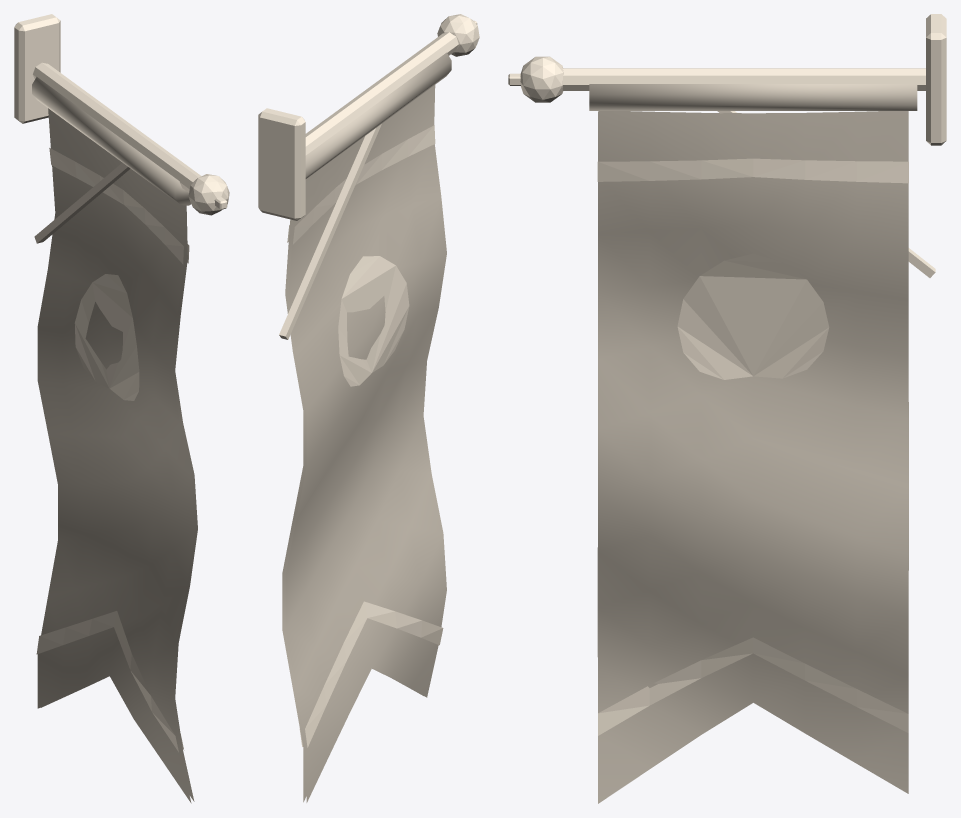
File: SM_VK_Banner_Wall.fbx
3 renders of one model, left to right at view 1: azimuth 30°, elevation 25°; view 2: azimuth 150°, elevation 25°; view 3: azimuth 270°, elevation 25°, orthographic. The views are drawn at different scales.
Visible parts, largest first — view 1: SM_VK_Banner_Wall.001; view 2: SM_VK_Banner_Wall.001; view 3: SM_VK_Banner_Wall.001.
Part boxes in pixels (x1=…): SM_VK_Banner_Wall.001: x1=14, y1=14, x2=229, y2=803; SM_VK_Banner_Wall.001: x1=258, y1=14, x2=479, y2=802; SM_VK_Banner_Wall.001: x1=508, y1=14, x2=946, y2=803.
Bounding box in the file's own units: 0.16 × 2.48 × 1.27.
